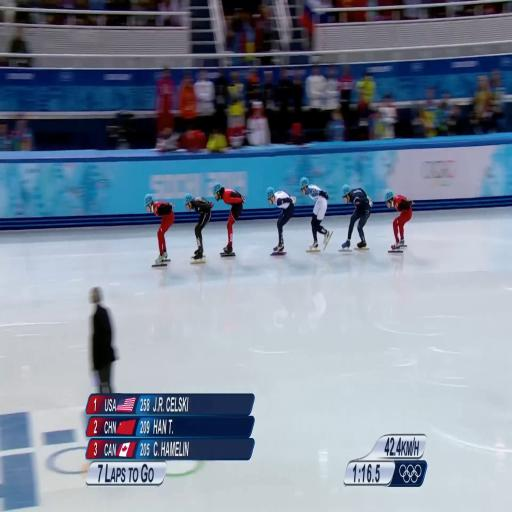Skater: (300, 177, 333, 251), (214, 183, 244, 256), (145, 194, 174, 266), (184, 193, 213, 263), (342, 185, 372, 250), (267, 187, 295, 255), (385, 190, 413, 251)
